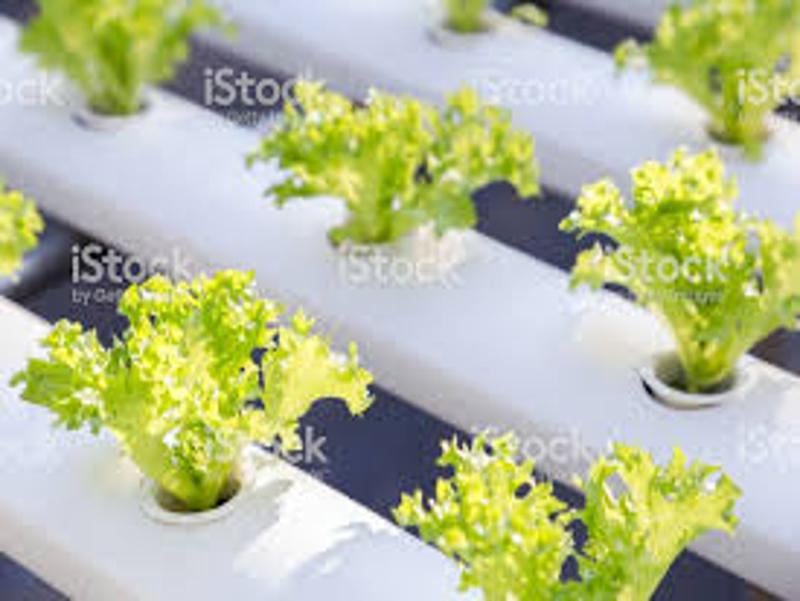green lettuce: (45, 257, 356, 486), (408, 427, 743, 601), (580, 145, 800, 388), (245, 85, 542, 235), (634, 4, 800, 149)
